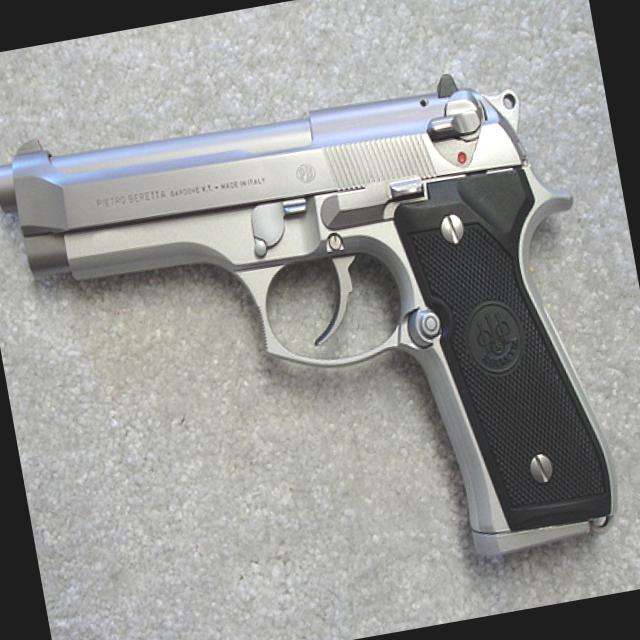handgun: (0, 42, 633, 634)
